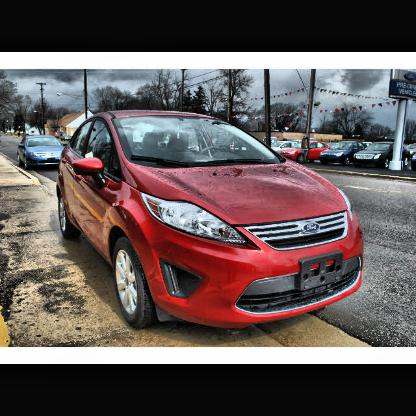Ford Fiesta Sedan 2012: (55, 111, 367, 335)
